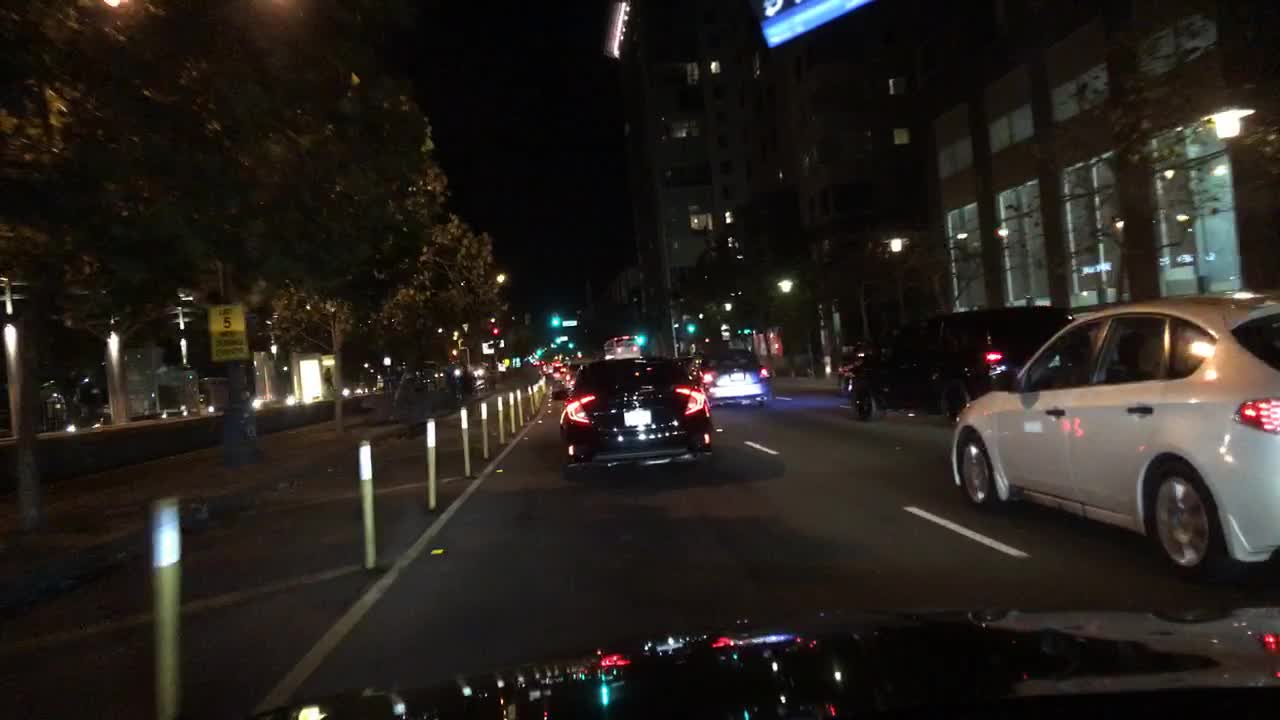car: (948, 292, 1280, 588), (842, 301, 1077, 424), (552, 340, 716, 479), (675, 346, 773, 410), (63, 413, 111, 433), (563, 359, 579, 398), (137, 408, 183, 421), (552, 365, 563, 381)
traffic light: (685, 313, 695, 333), (635, 325, 644, 344), (490, 322, 500, 338), (552, 313, 561, 329)
traffic sign: (208, 301, 249, 362), (559, 316, 576, 326)
